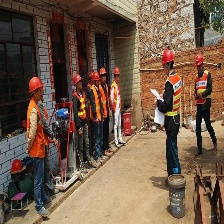helmet: (160, 49, 174, 67), (29, 78, 43, 96), (195, 53, 203, 69), (92, 71, 101, 83), (73, 74, 82, 85), (114, 67, 121, 75)
person: (26, 74, 51, 217), (158, 50, 184, 180), (193, 53, 213, 157), (111, 66, 126, 147)
vest: (27, 99, 46, 158), (166, 74, 181, 114), (196, 71, 209, 107), (74, 90, 87, 121)
